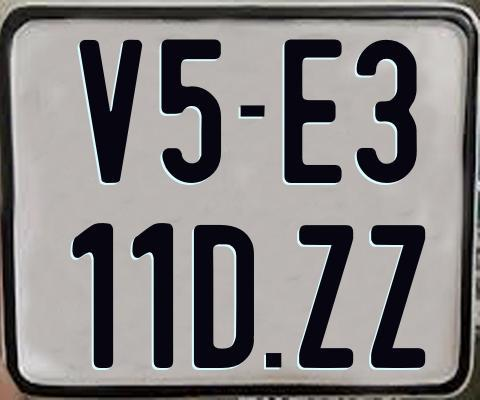1: (129, 220, 173, 371), (69, 223, 111, 374)
3: (354, 39, 420, 184)
5: (158, 37, 222, 184)
D: (192, 222, 254, 369)
E: (282, 37, 342, 185)
V: (78, 40, 140, 184)
Z: (296, 223, 353, 369), (369, 223, 425, 366)
